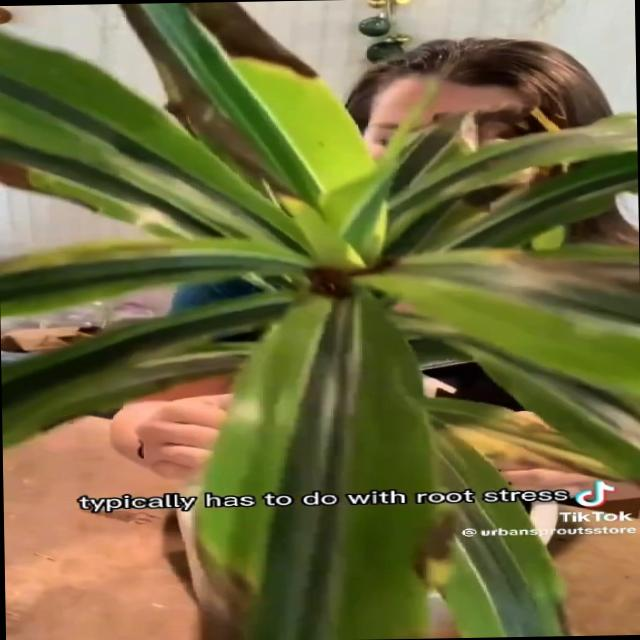lisc_suchy: (119, 1, 386, 300), (0, 33, 310, 261), (204, 513, 319, 640), (415, 184, 527, 253)
roslina_sucha: (0, 1, 640, 484)
